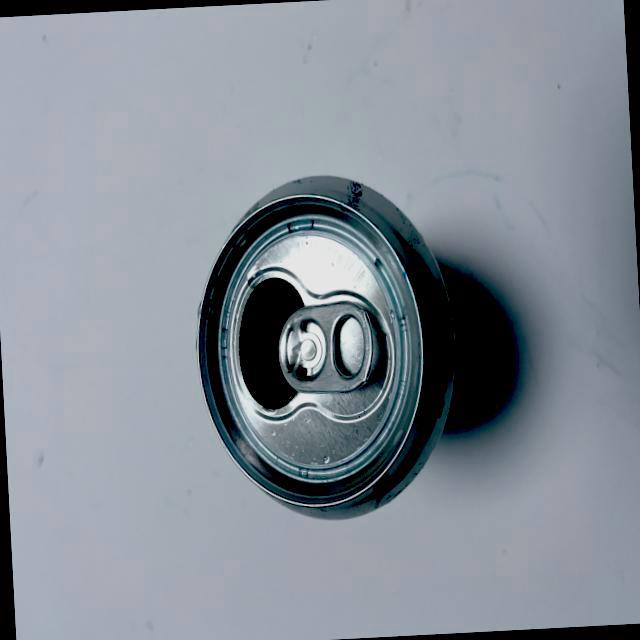metal: (172, 149, 496, 560)
